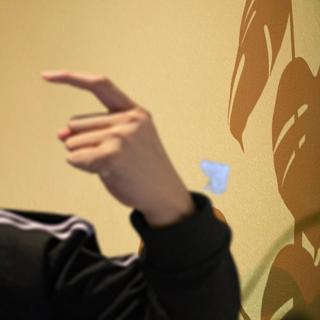WHY: (33, 64, 188, 222)
